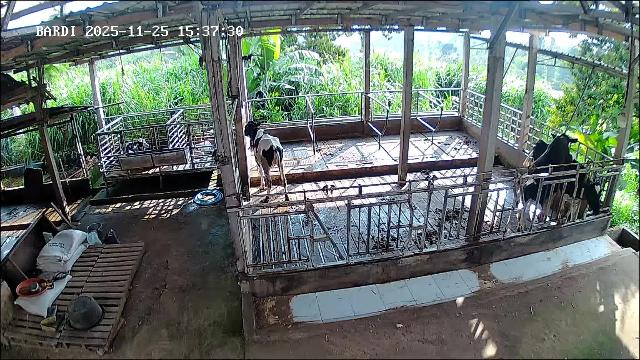mounting: (512, 132, 578, 226)
